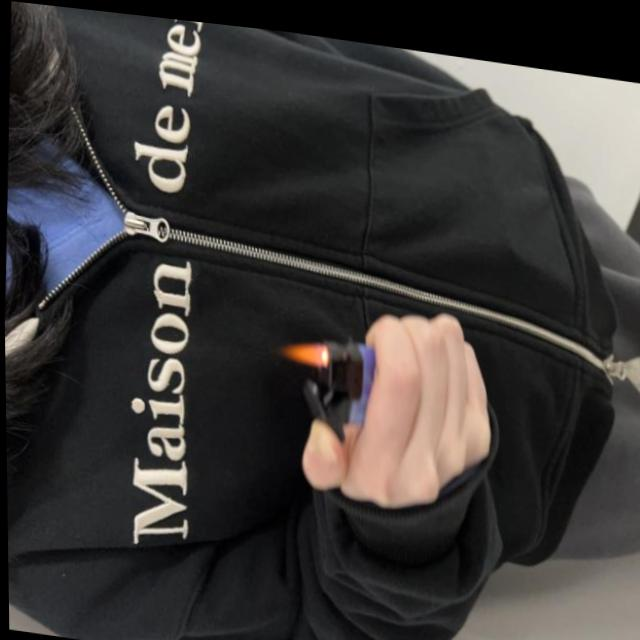Fire: (277, 329, 328, 360)
